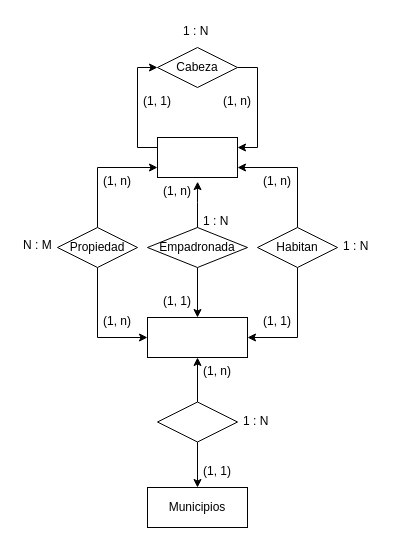
Image size: 394x545. Some labels were removed from this diagram. The centre of each missing label's shape, as x and y in pixels:
"Personas" belongs at point (197, 157).
"Pertenece" belongs at point (197, 421).
"Viviendas" belongs at point (197, 337).
